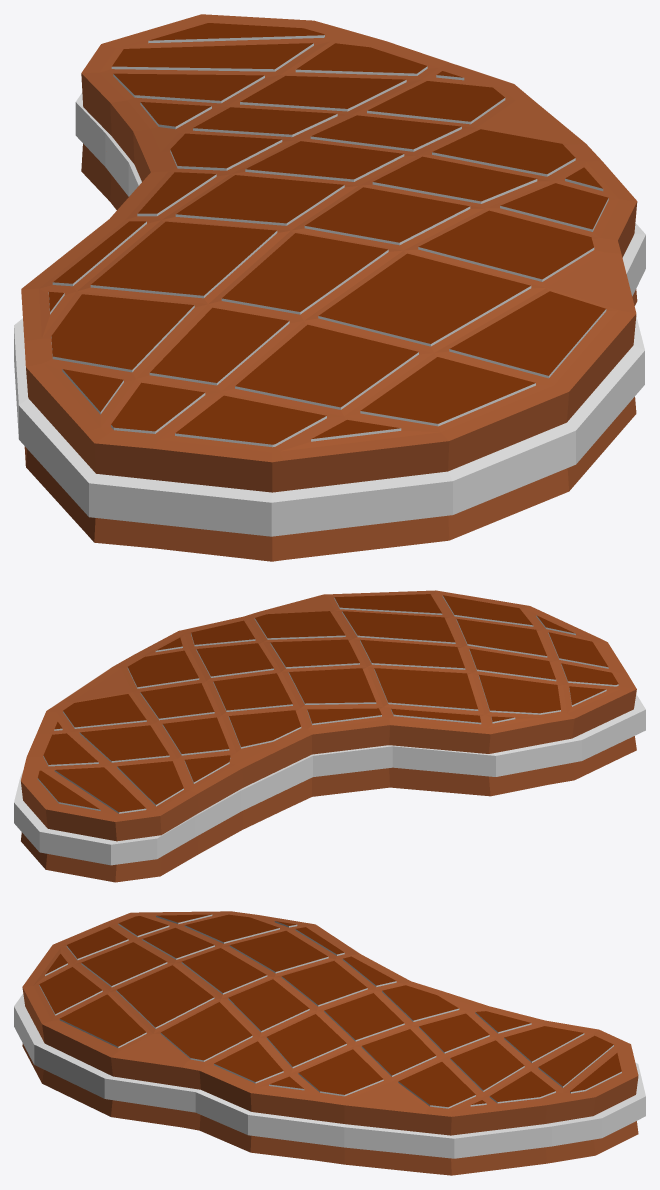
Rendered from Carne1.fbx.
3 renders of one model, top to bottom at view 1: azimuth 30°, elevation 25°; view 2: azimuth 150°, elevation 25°; view 3: azimuth 270°, elevation 25°, orthographic. The views are drawn at different scales.
Parts seen in each view (by area): view 1: Carne1; view 2: Carne1; view 3: Carne1.
Part boxes in pixels (bbox=[...]): Carne1: bbox=[14, 14, 645, 561]; Carne1: bbox=[14, 590, 645, 882]; Carne1: bbox=[14, 911, 645, 1175].
Bounding box in the file's own units: 110 × 24 × 143.
